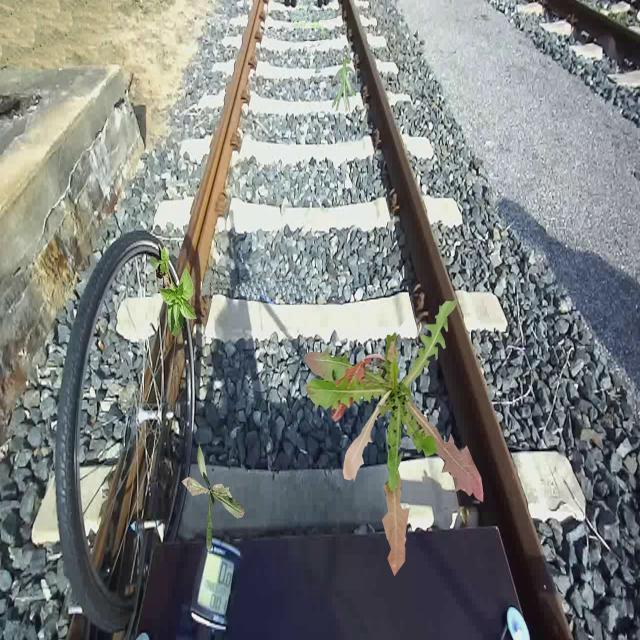Plant: (304, 299, 484, 577), (182, 440, 246, 552), (150, 243, 198, 338), (330, 57, 357, 114)
